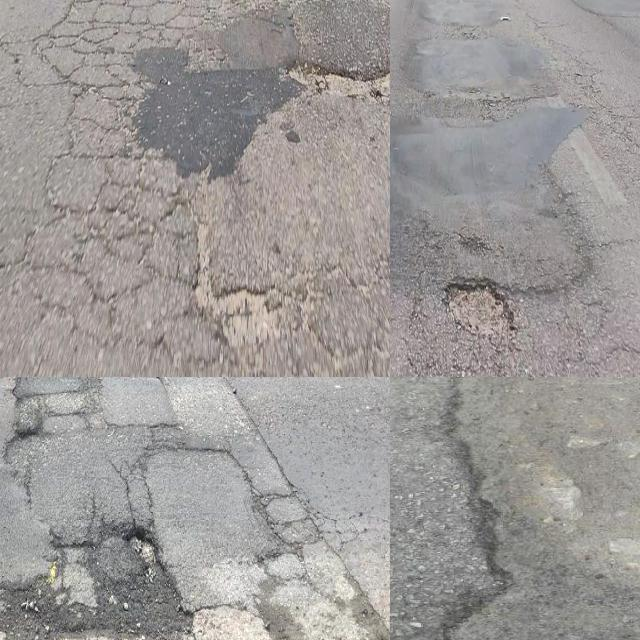Pothole: (449, 377, 640, 599), (280, 55, 390, 104), (445, 282, 514, 335)
